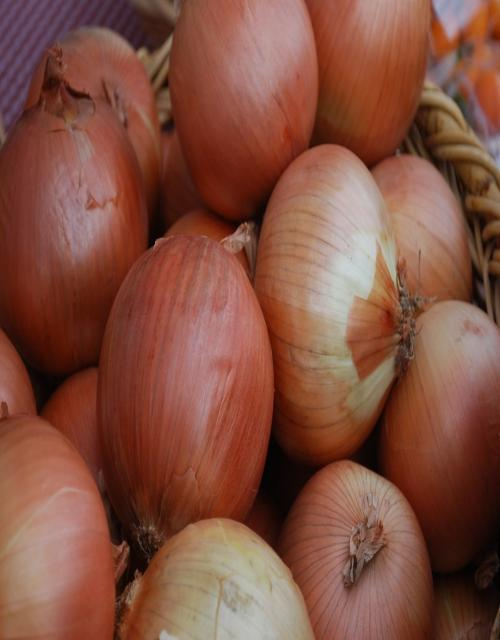Cebolla-: (209, 39, 423, 550)
